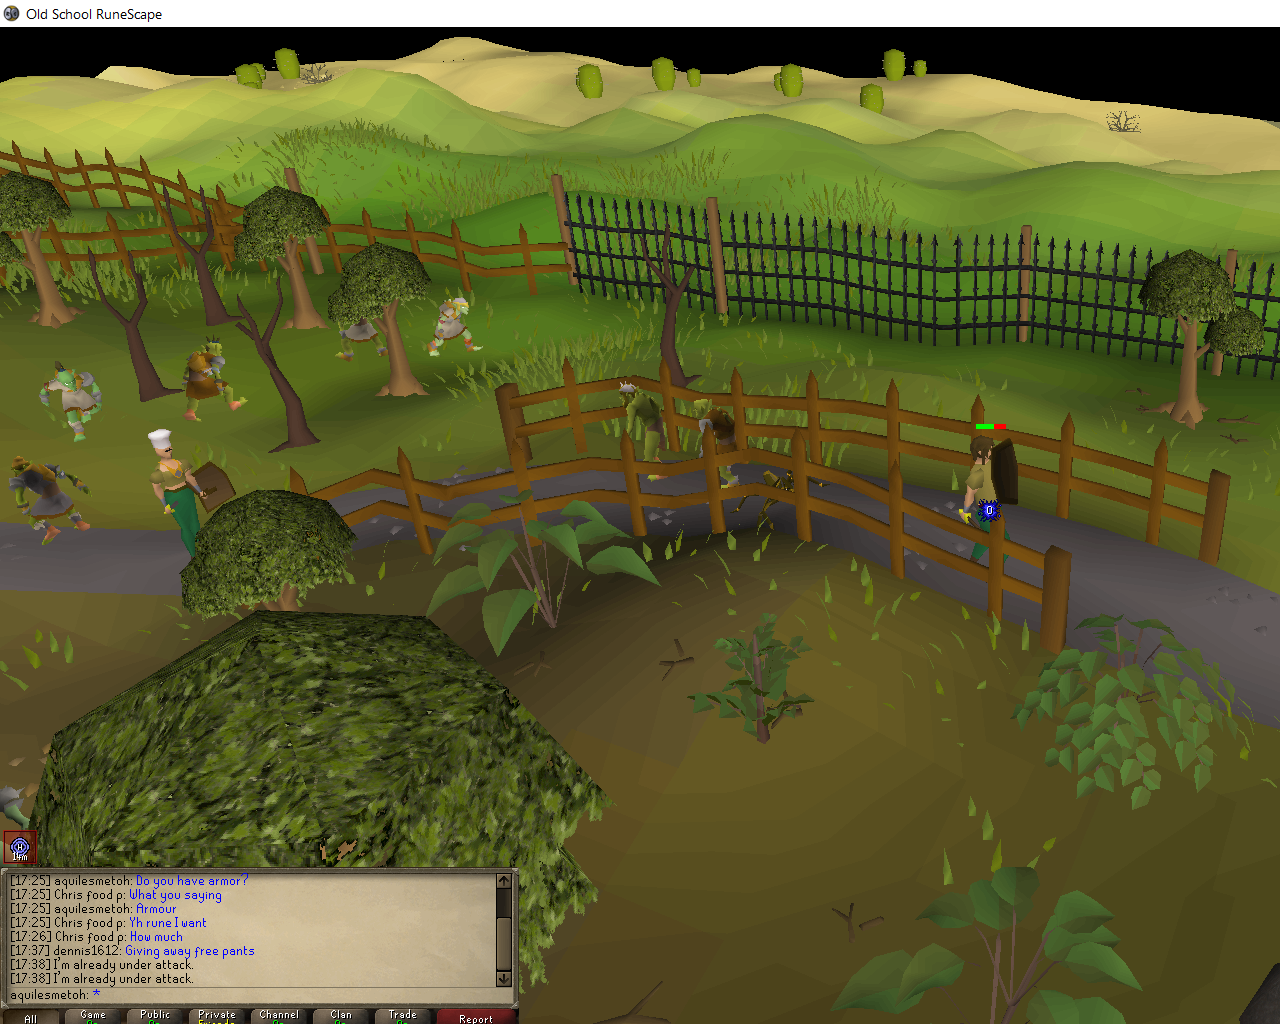Goblin: (1, 453, 93, 546), (615, 381, 681, 484), (176, 339, 248, 426), (692, 396, 752, 497), (38, 362, 103, 443), (425, 296, 489, 358)
